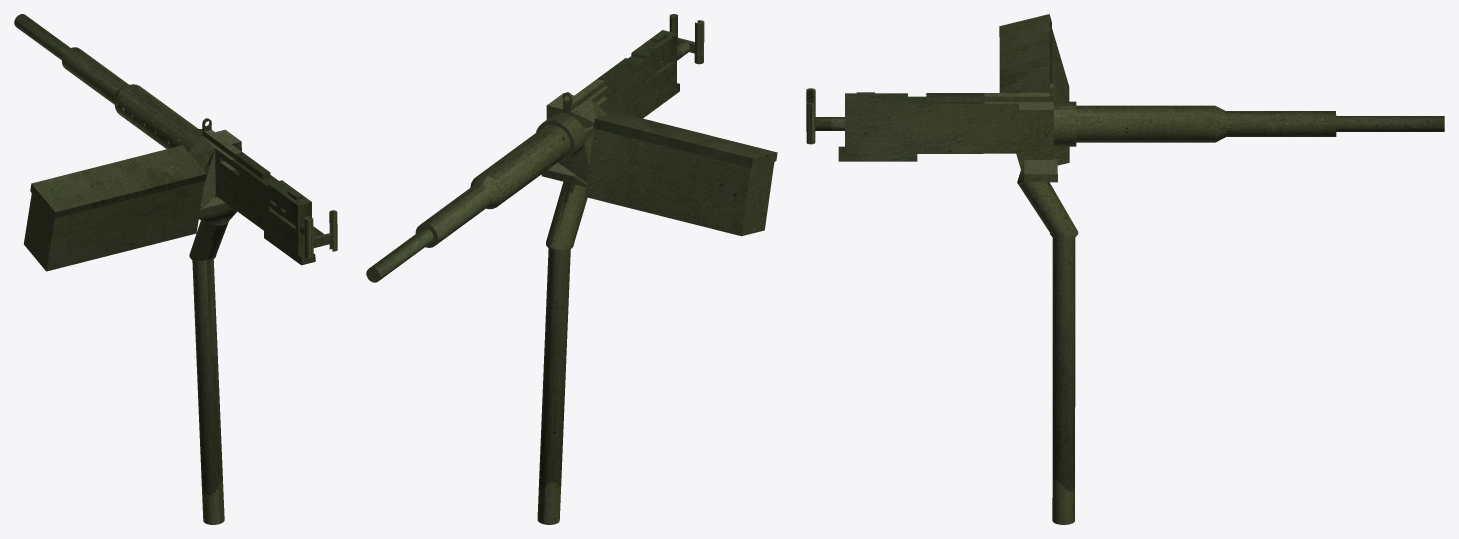
File: jeep_gun.DAE
3 views of the same model, side by side, from view 1: azimuth 30°, elevation 25°; view 2: azimuth 150°, elevation 25°; view 3: azimuth 270°, elevation 25° (orthographic). The views are drawn at different scales.
Visible parts, largest first — view 1: jeep_gun; view 2: jeep_gun; view 3: jeep_gun.
Boxes of the visible parts, x1,y1,x2,y2 form: jeep_gun: [14, 14, 337, 524]; jeep_gun: [366, 14, 777, 524]; jeep_gun: [806, 14, 1444, 524].
Size of what is drawn, in the model's own units: 0.6087 by 1.61 by 1.2.
Materials: 1 (1 with a texture image).
